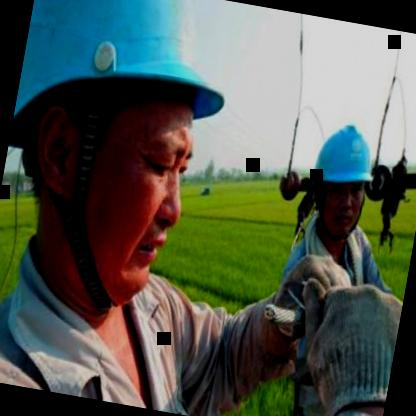helmet: (0, 0, 244, 353), (294, 108, 390, 254)
